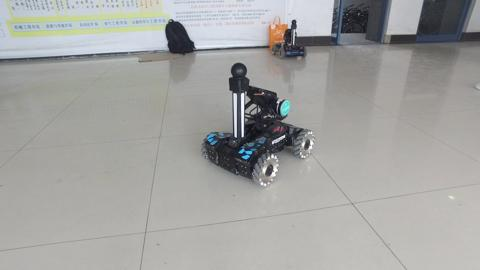bag: (163, 18, 197, 56), (266, 15, 289, 49)
chariot: (200, 61, 316, 189), (270, 18, 308, 58)
